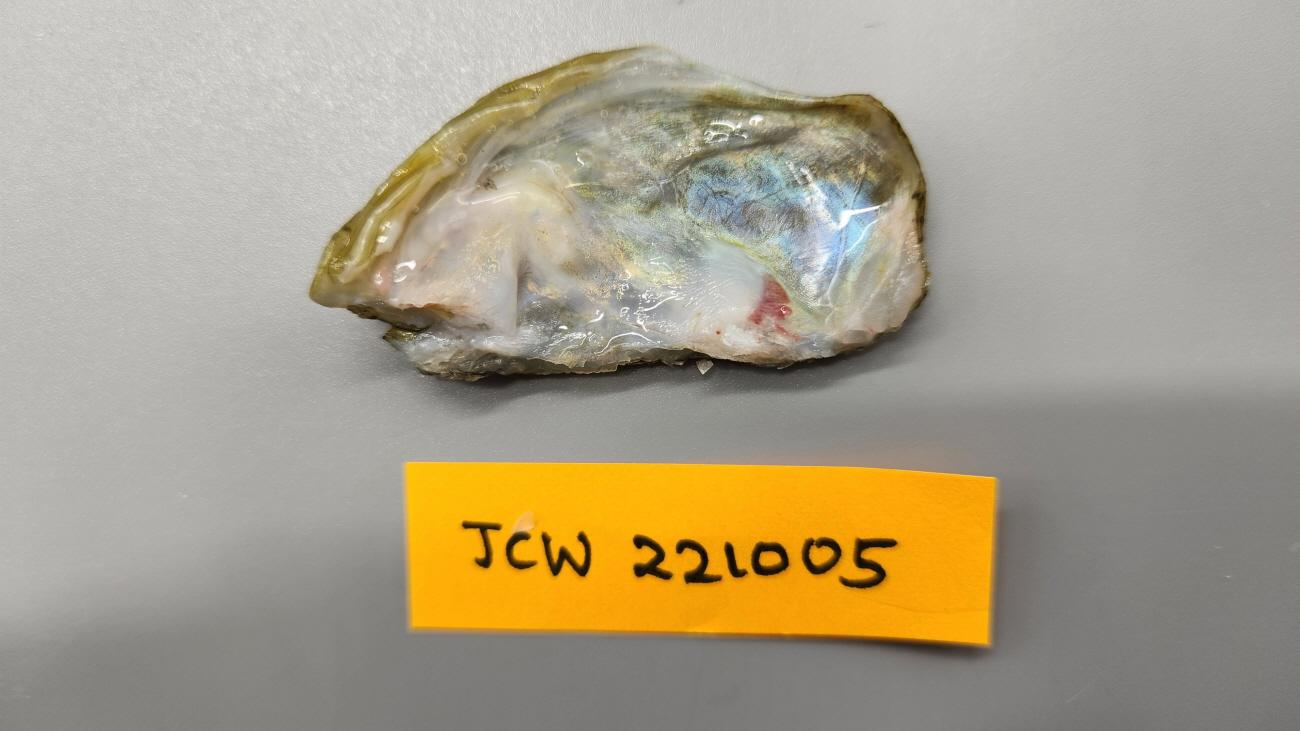POGCN: (308, 43, 934, 384)
